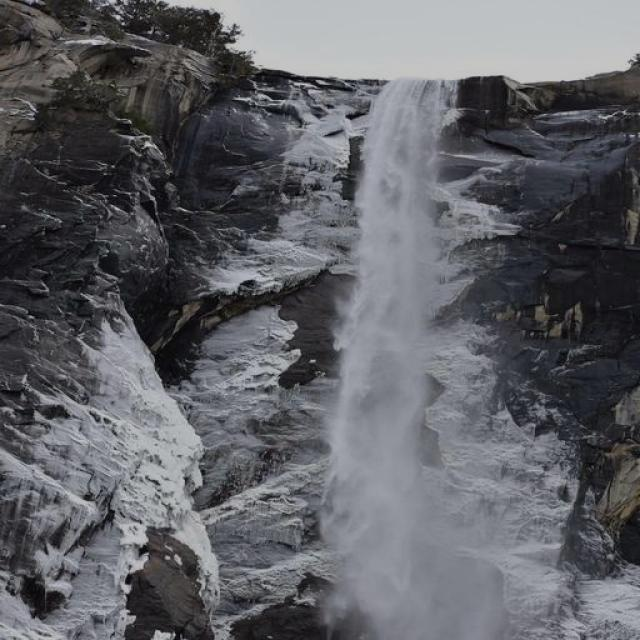watermark: (135, 391, 331, 587)
